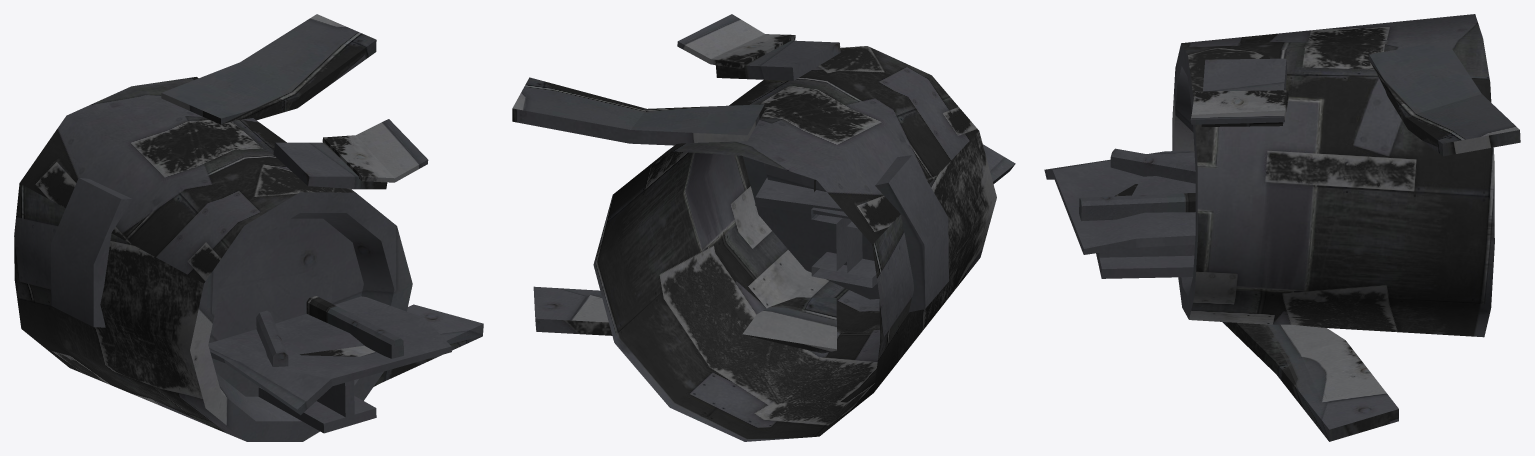
Rendered from HCD15.fbx.
3 views of the same model, side by side, from view 1: azimuth 30°, elevation 25°; view 2: azimuth 150°, elevation 25°; view 3: azimuth 270°, elevation 25° (orthographic). The views are drawn at different scales.
Parts seen in each view (by area): view 1: fifteenD; view 2: fifteenD; view 3: fifteenD.
Boxes of the visible parts, <box> form: fifteenD: <box>14,14,483,441</box>; fifteenD: <box>512,14,1015,441</box>; fifteenD: <box>1044,14,1520,441</box>.
Size of the model in its own units: 4809 by 3270 by 4804.
1 material, 1 textured.
